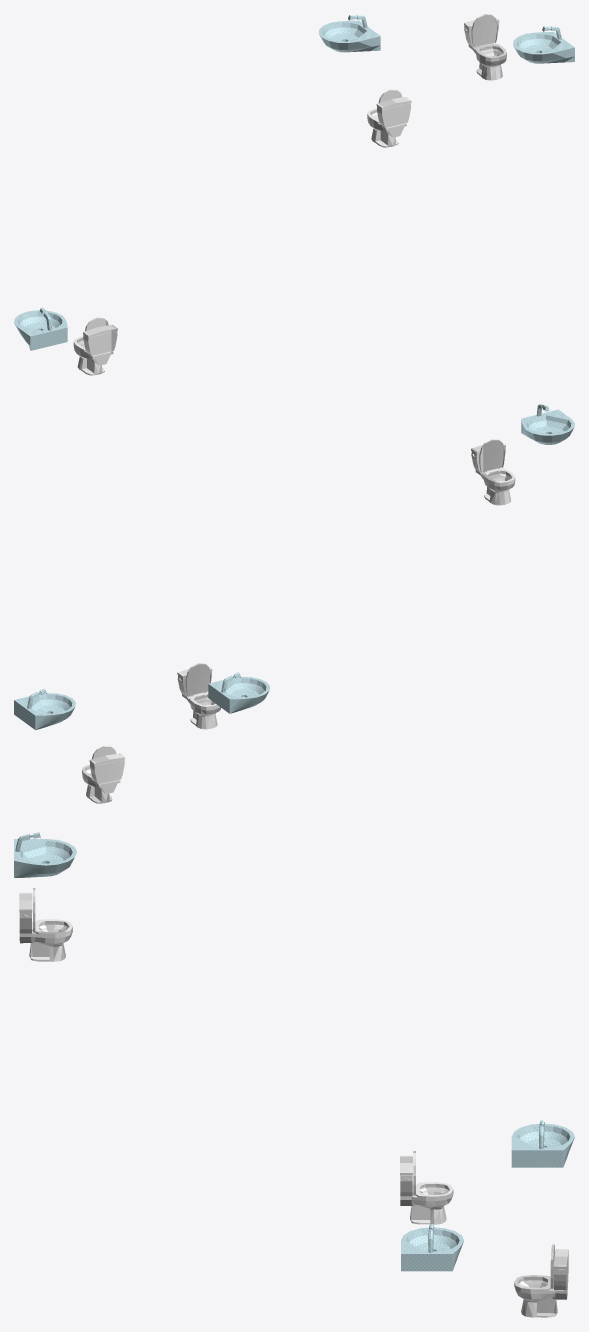
Rendered from bathroom fitting.gltf.
3 views of the same model, one above another, from view 1: azimuth 30°, elevation 25°; view 2: azimuth 210°, elevation 25°; view 3: azimuth 270°, elevation 25° (orthographic). The views are drawn at different scales.
Parts seen in each view (by area): view 1: ID224, ID35, ID568, ID59, ID120, ID43, ID416, ID256, ID560, ID280, ID408, ID216; view 2: ID35, ID568, ID224, ID312, ID59, ID504, ID216, ID560, ID43, ID80, ID256, ID416; view 3: ID35, ID568, ID59, ID224, ID256, ID416, ID216, ID560, ID43.
Boxes of the visible parts, box(x1,y1,x2,y2) form: ID224: box(14, 310, 67, 350); ID35: box(318, 20, 380, 52); ID568: box(513, 31, 574, 63); ID59: box(468, 43, 506, 80); ID120: box(471, 14, 497, 47); ID43: box(322, 22, 367, 41); ID416: box(367, 115, 406, 147); ID256: box(73, 343, 113, 375); ID560: box(516, 34, 561, 52); ID280: box(83, 331, 117, 355); ID408: box(377, 103, 411, 127); ID216: box(18, 312, 62, 331); ID35: box(208, 676, 269, 713); ID568: box(14, 693, 75, 730); ID224: box(521, 409, 574, 444); ID312: box(479, 439, 504, 472); ID59: box(82, 764, 120, 803); ID504: box(185, 663, 211, 696); ID216: box(526, 415, 571, 433); ID560: box(27, 694, 72, 713); ID43: box(221, 678, 266, 697); ID80: box(90, 759, 124, 784); ID256: box(475, 468, 515, 505); ID416: box(182, 692, 220, 729); ID35: box(511, 1123, 574, 1167); ID568: box(401, 1227, 464, 1271); ID59: box(514, 1275, 568, 1317); ID224: box(14, 839, 77, 877); ID256: box(19, 922, 72, 961); ID416: box(400, 1185, 453, 1224); ID216: box(15, 841, 72, 863); ID560: box(405, 1229, 459, 1253); ID43: box(516, 1125, 570, 1149).
Bounding box in the file's own units: 9.35 × 1.16 × 5.35.
70 materials, 70 textured.
